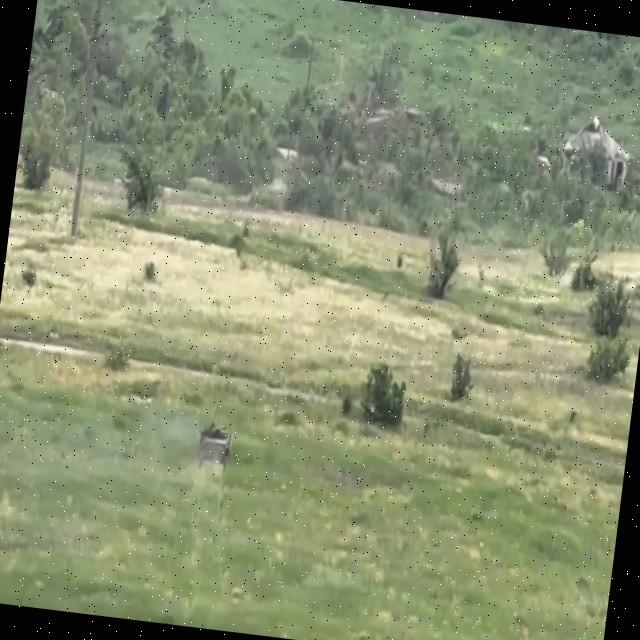AIFV: (195, 418, 235, 466)
